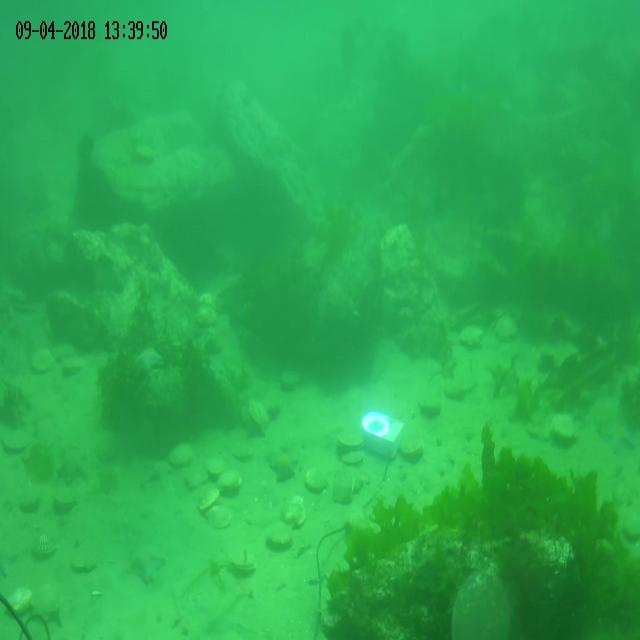scallop: (31, 582, 62, 621), (226, 545, 258, 579), (550, 410, 580, 445), (282, 492, 308, 530), (266, 517, 292, 554), (30, 530, 60, 562), (3, 426, 31, 457), (184, 460, 210, 493), (334, 468, 356, 504), (68, 550, 98, 576), (29, 345, 55, 375), (205, 505, 233, 531), (169, 439, 194, 468), (336, 428, 366, 452), (8, 584, 32, 613), (494, 314, 518, 342), (198, 483, 220, 513), (305, 467, 330, 493), (194, 304, 220, 328), (52, 340, 78, 364), (402, 434, 426, 460), (278, 368, 304, 391), (217, 469, 242, 492), (206, 452, 228, 478), (459, 325, 485, 347), (64, 352, 86, 376), (135, 140, 155, 164), (340, 448, 366, 466), (197, 288, 216, 312), (233, 443, 254, 463)
starfish: (124, 541, 168, 585), (600, 412, 640, 458), (57, 446, 90, 488), (134, 342, 166, 377), (143, 454, 175, 489), (0, 538, 21, 584), (272, 452, 300, 485), (242, 414, 272, 440)
